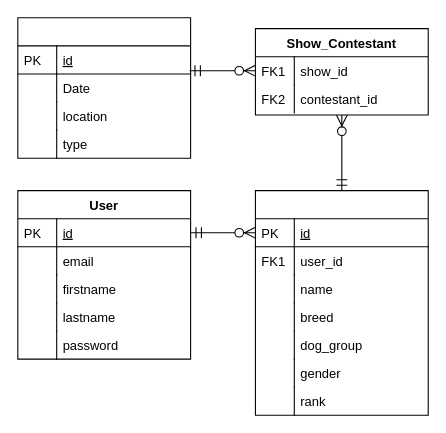
This 446x433 diagram has some shape labels left out. The shapes that lost their labels are listed below. From the top down, each one's box as (x1, y1, x2, y2) in pixels, then its label:
(17, 17, 191, 158): Show
(254, 190, 428, 415): Contestant
